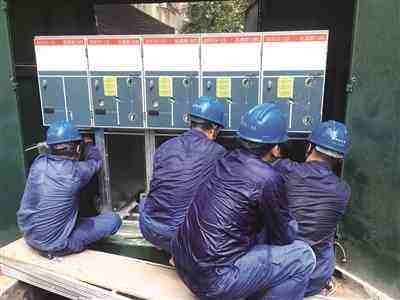blue: (234, 100, 286, 162), (302, 120, 351, 167), (187, 92, 226, 141), (45, 120, 85, 163)
